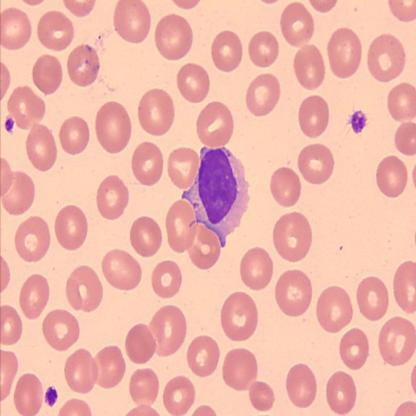Atypical lymphocyte: (183, 144, 252, 246)
